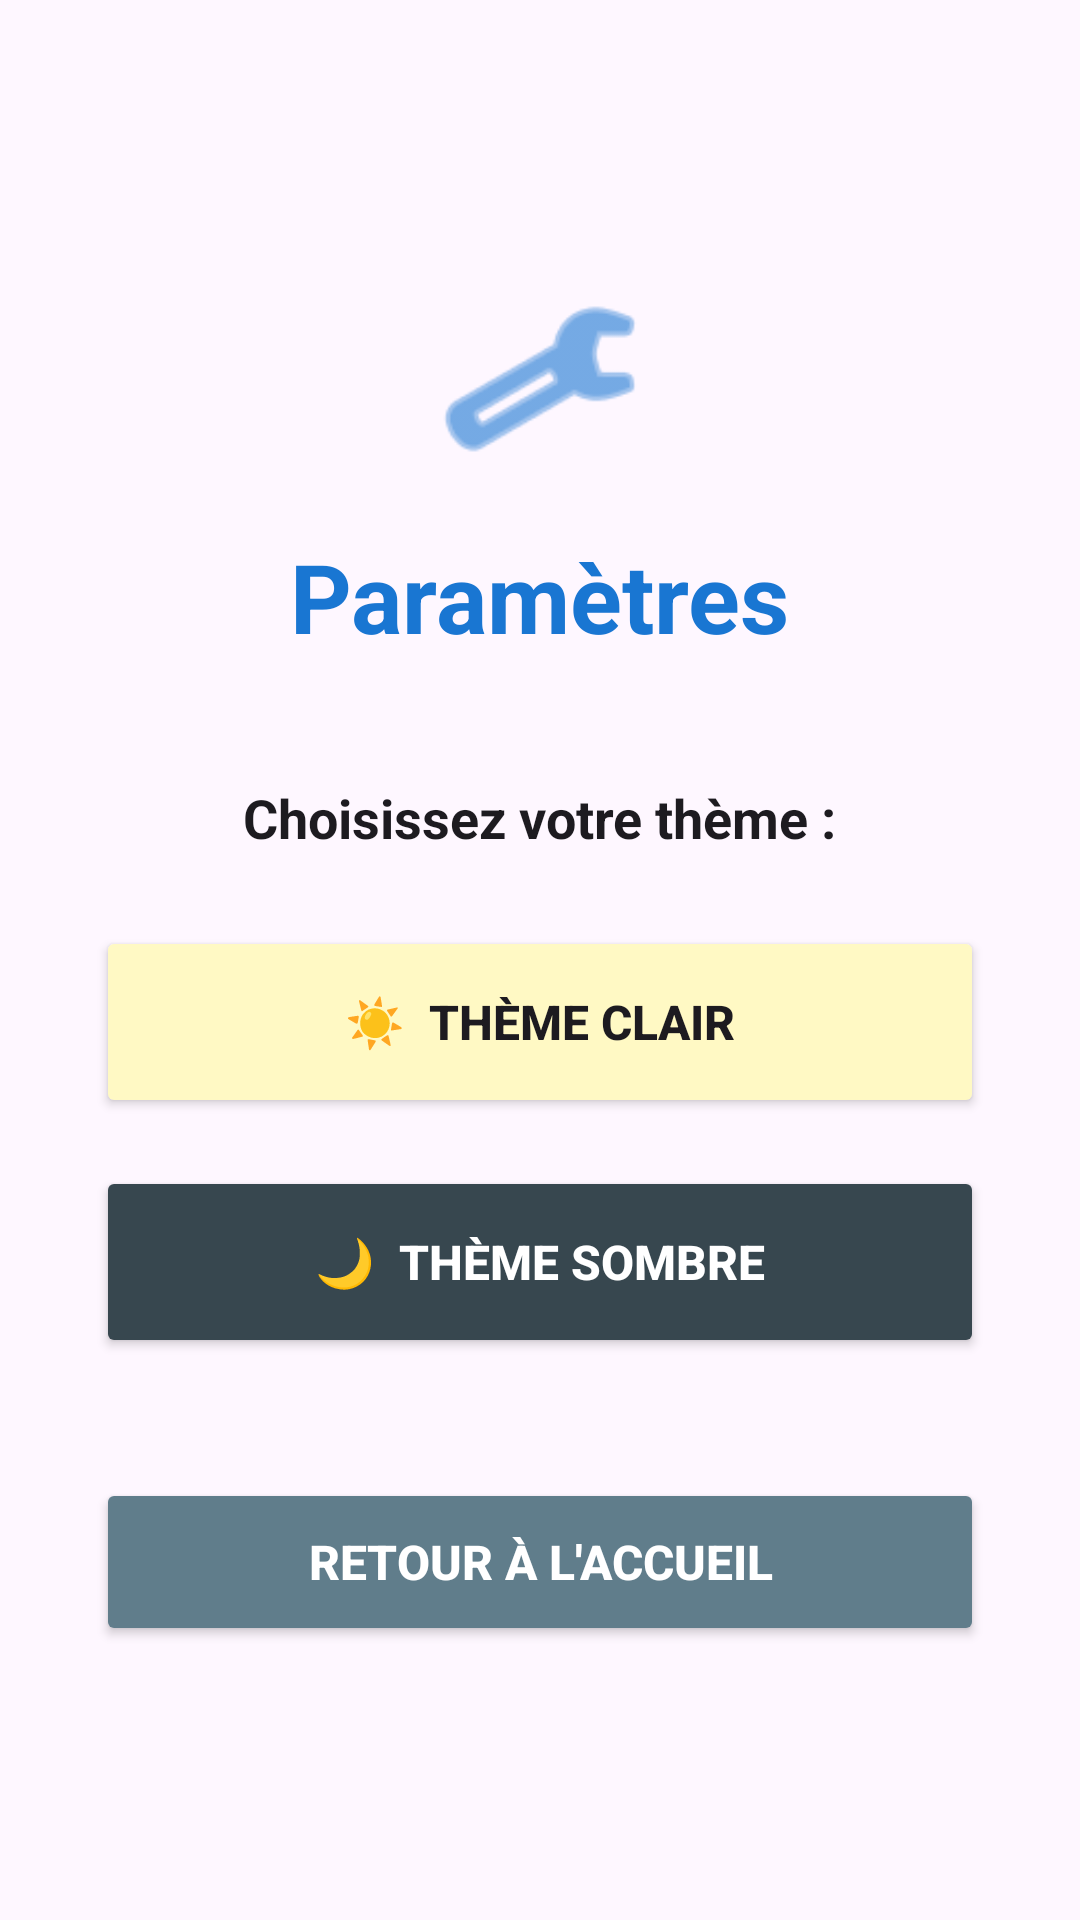

Locate icon controls on the screen. Image size 1080x1920, boxes as region(x1, y1, x2, y2).
manage: region(445, 307, 635, 451)
